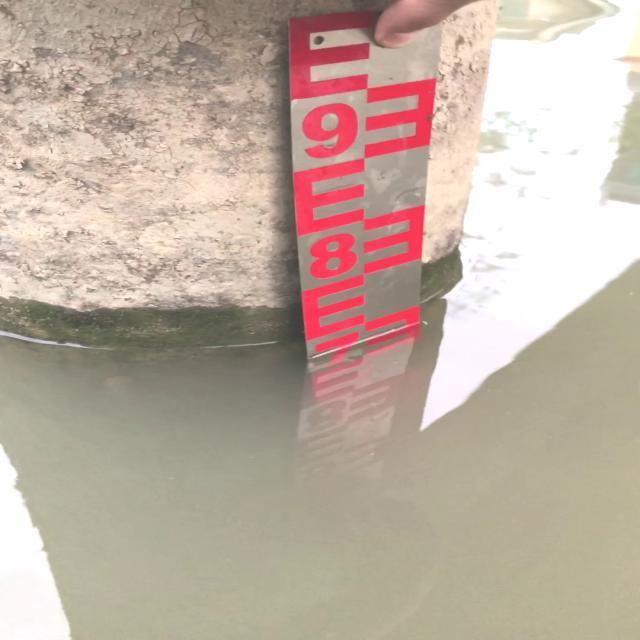ruler: (272, 0, 466, 368)
value: (286, 89, 368, 171), (296, 226, 365, 286)
